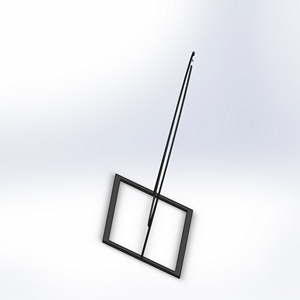circle: (99, 49, 198, 280)
